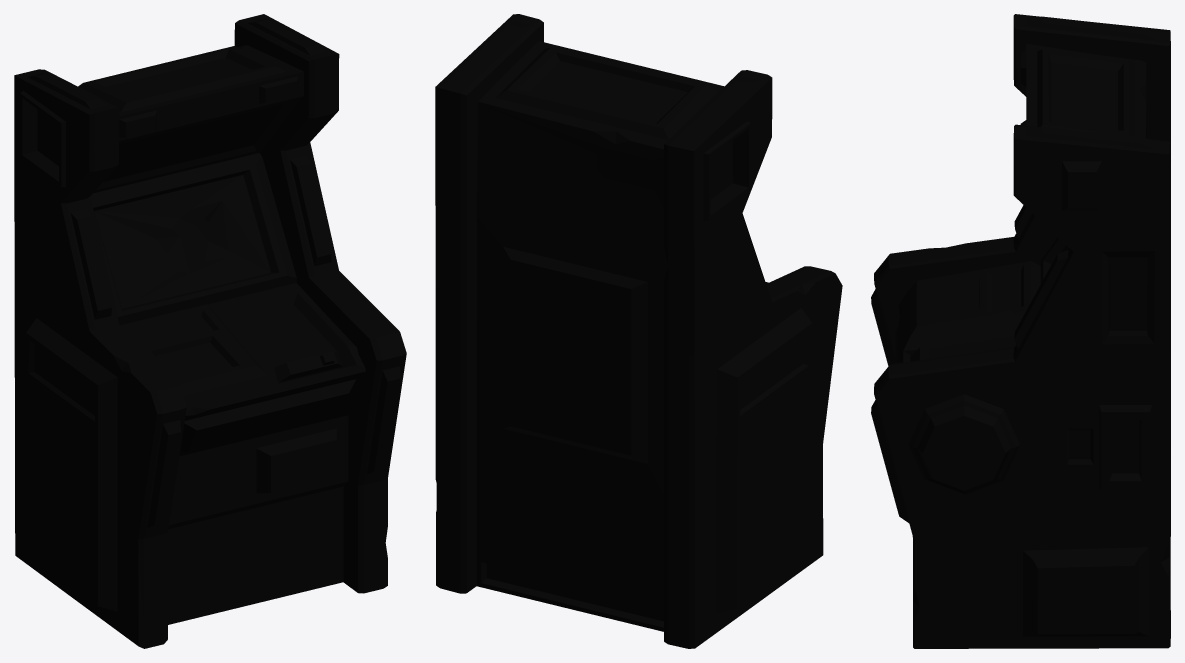
Rendered from cyber_SM_Prop_Street_Console_01.gltf.
3 views of the same model, side by side, from view 1: azimuth 30°, elevation 25°; view 2: azimuth 150°, elevation 25°; view 3: azimuth 270°, elevation 25° (orthographic). The views are drawn at different scales.
Parts seen in each view (by area): view 1: SM_Prop_Street_Console_01; view 2: SM_Prop_Street_Console_01; view 3: SM_Prop_Street_Console_01.
Boxes of the visible parts, <box> form: SM_Prop_Street_Console_01: <box>14,14,406,648</box>; SM_Prop_Street_Console_01: <box>435,14,842,648</box>; SM_Prop_Street_Console_01: <box>871,14,1170,648</box>.
Bounding box in the file's own units: 0.818 × 1.39 × 0.7337.
Materials: 1 (1 with a texture image).
